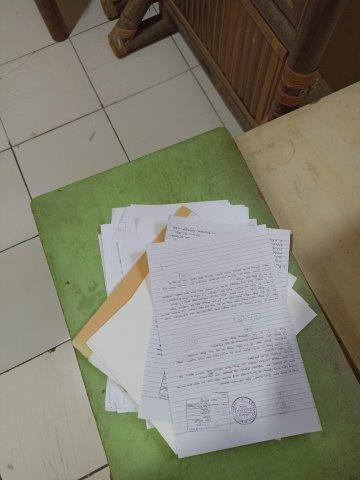kertas: (74, 200, 323, 459)
